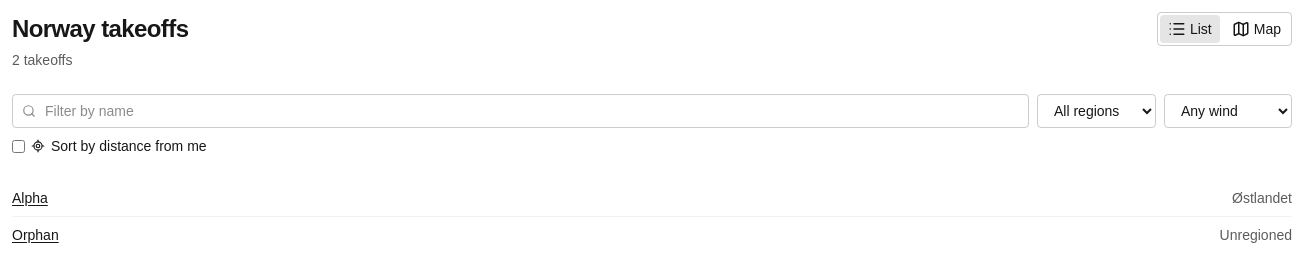
Test case: TakeoffDirectory — input-driven filtering › adds a selectable "Unregioned" entry to the region dropdown when an orphan regionId is present, and filtering by it works
Expected: the link "Alpha" is shown, [12, 188, 48, 208]
Select "Unregioned" in the dropdown named "region" at (1096, 111), box [1037, 94, 1156, 128]
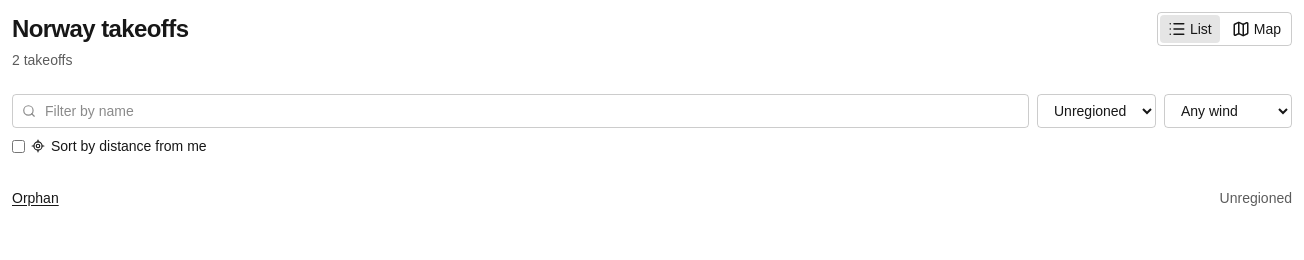
Expected: the link "Orphan" is shown, [12, 188, 59, 208]
Expected: the link "Alpha" is gone
